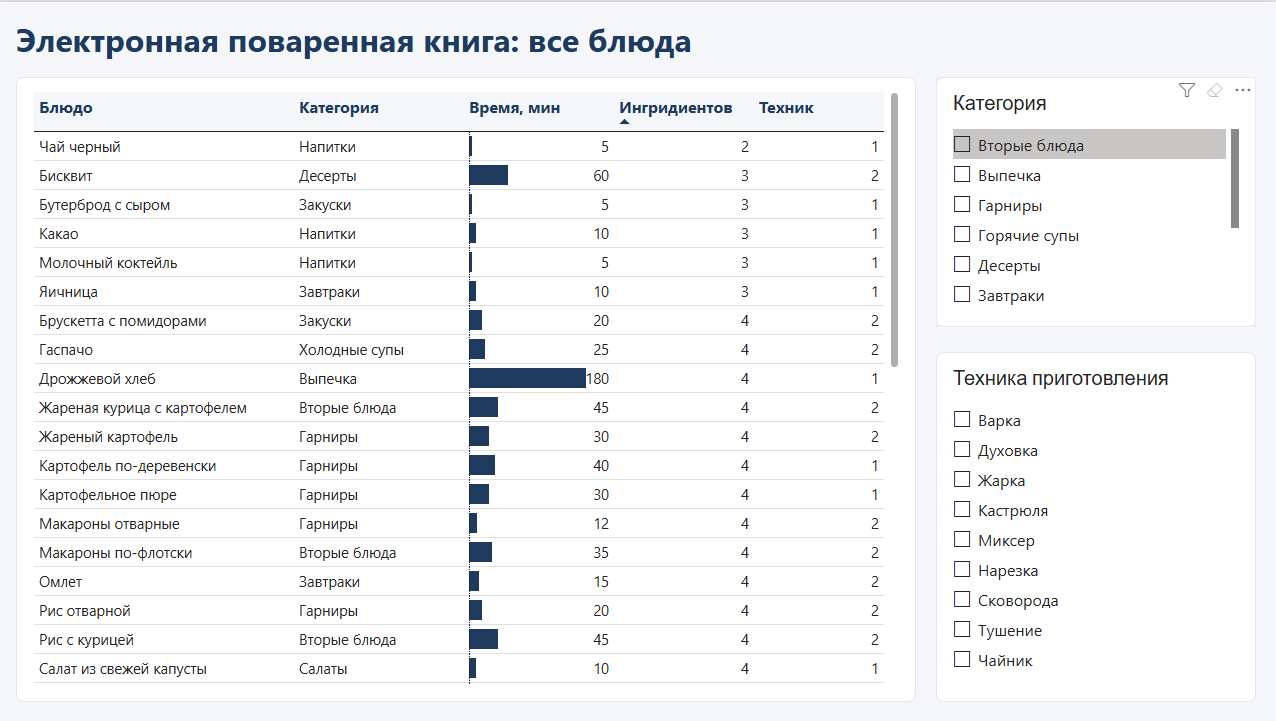

Layout of this report page (visuals, bound fields, positions):
{"tool":"powerbi","page":{"name":"Блюда","canvas":[1280,720],"ordinal":1},"visuals":[{"type":"textbox","box":[20,15,1178.3,55],"z":0},{"type":"tableEx","fields":{"Values":["public v_dishes_overview.dish_name","public v_dishes_overview.category_name","public v_dishes_overview.cooking_minutes","public v_dishes_overview.ingredients_count","public v_dishes_overview.techniques_count"]},"box":[20,75,900,625],"z":1000},{"type":"listSlicer","fields":{"Values":["public v_dishes_overview.category_name"]},"box":[940,75,320,250],"z":2000},{"type":"listSlicer","fields":{"Values":["public techniques.technique_name"]},"box":[940,350,320,350],"z":3000}]}

Visuals, with their boxes in screenshot pixels (x1, y1, x2, y2), scaled from the page's 1280x720 canvas onto the 1276x721 screenshot:
textbox: (20, 15, 1195, 70)
tableEx - public v_dishes_overview.dish_name x public v_dishes_overview.category_name: (20, 75, 917, 701)
listSlicer - public v_dishes_overview.category_name: (937, 75, 1256, 325)
listSlicer - public techniques.technique_name: (937, 350, 1256, 701)
